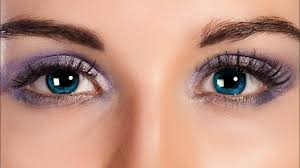pupil: (45, 67, 81, 93), (214, 67, 246, 96)
